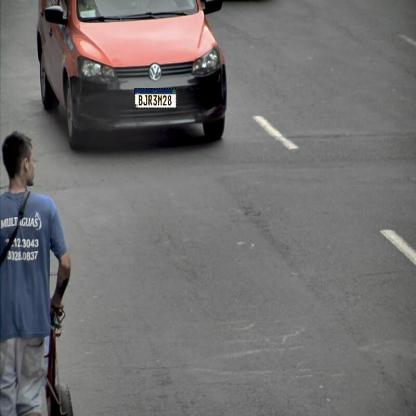PlacaM: (134, 88, 177, 109)
